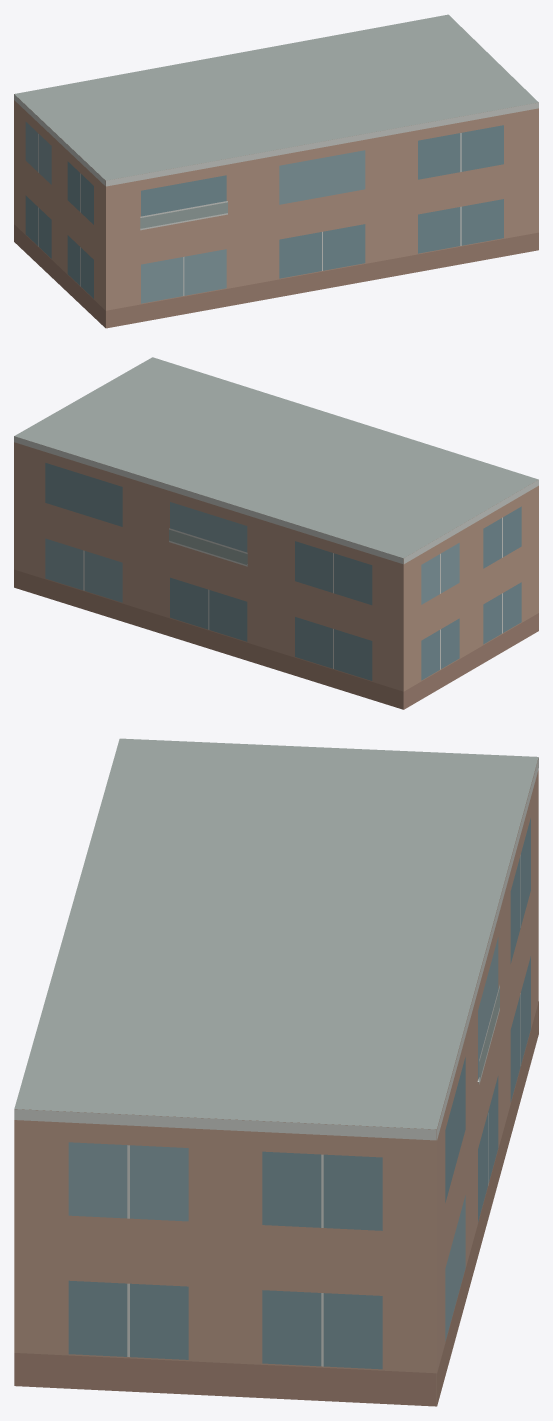
Rendered from survey-upis-32566757.glb.
3 renders of one model, top to bottom at view 1: azimuth 30°, elevation 25°; view 2: azimuth 150°, elevation 25°; view 3: azimuth 270°, elevation 25°, orthographic. The views are drawn at different scales.
Parts seen in each view (by area): view 1: survey-upis-32566757.tmp; view 2: survey-upis-32566757.tmp; view 3: survey-upis-32566757.tmp.
Boxes of the visible parts, x1,y1,x2,y2 form: survey-upis-32566757.tmp: [14, 14, 538, 328]; survey-upis-32566757.tmp: [14, 357, 538, 709]; survey-upis-32566757.tmp: [14, 738, 538, 1406].
Bounding box in the file's own units: 18.47 × 6.1 × 10.48.
